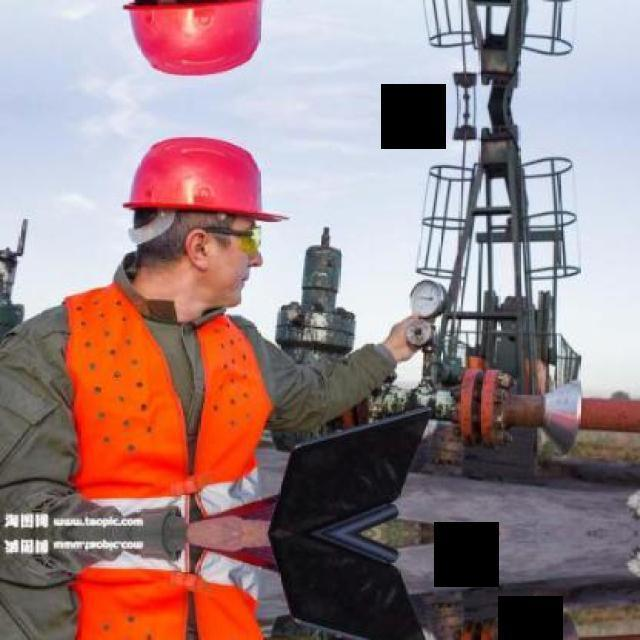red helmet: (123, 133, 290, 225)
